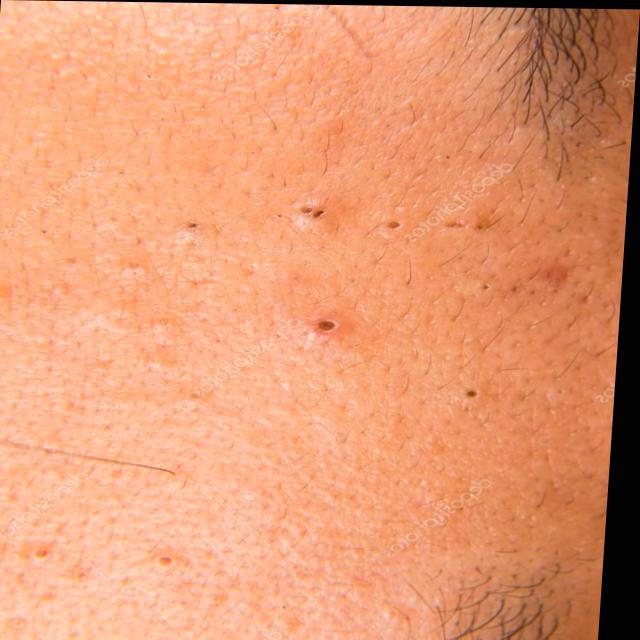dark spot: (291, 197, 335, 227), (314, 309, 347, 340), (453, 379, 490, 406), (378, 213, 413, 232)
